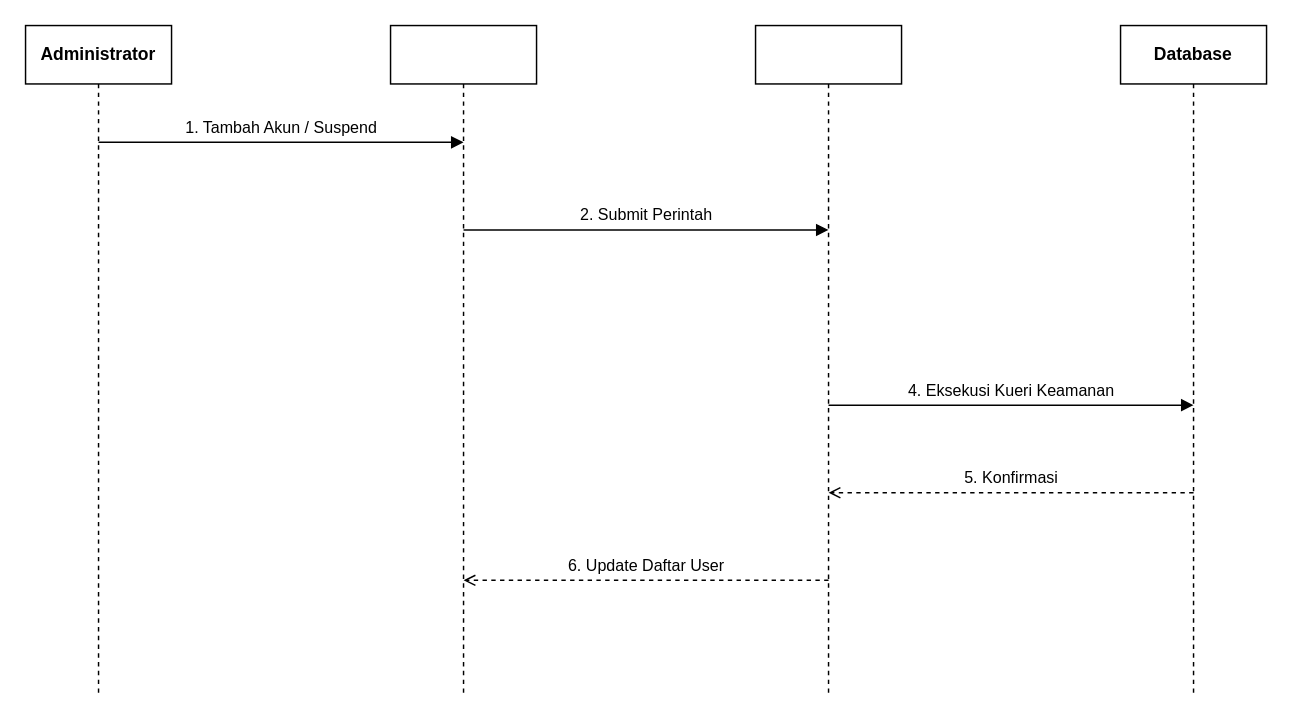
Image size: 1292x723. Some labels were removed from this diagram. Here are the shapes that lost their labels. From the top down, the box of each, then its label:
(389, 24, 537, 697): Sistem (UI)
(754, 24, 902, 697): Sistem (Controller)
